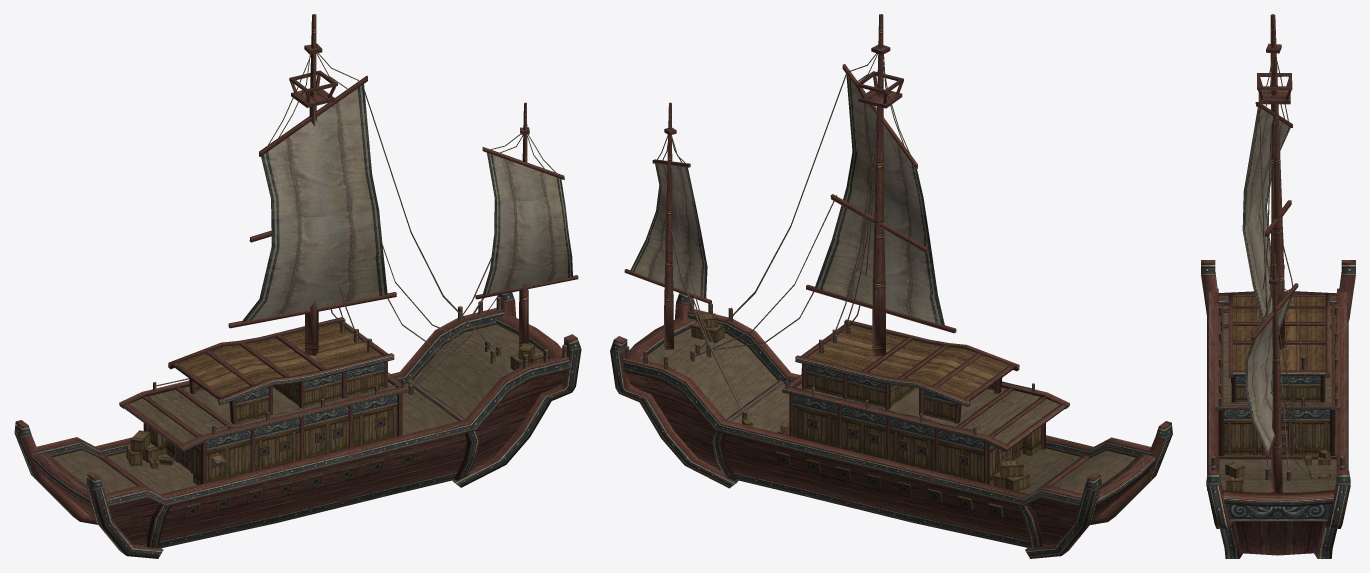
The model's file is zhanchuan_40.FBX.
The picture shows the model from 3 angles, left to right: view 1: azimuth 30°, elevation 25°; view 2: azimuth 150°, elevation 25°; view 3: azimuth 270°, elevation 25°; orthographic projection. The views are drawn at different scales.
Parts seen in each view (by area): view 1: zhanchuan_40; view 2: zhanchuan_40; view 3: zhanchuan_40.
Part boxes in pixels (<box>): zhanchuan_40: <box>14,14,581,558</box>; zhanchuan_40: <box>610,14,1172,558</box>; zhanchuan_40: <box>1201,14,1355,558</box>.
Size of what is drawn, in the model's own units: 10669 by 9589 by 2817.
